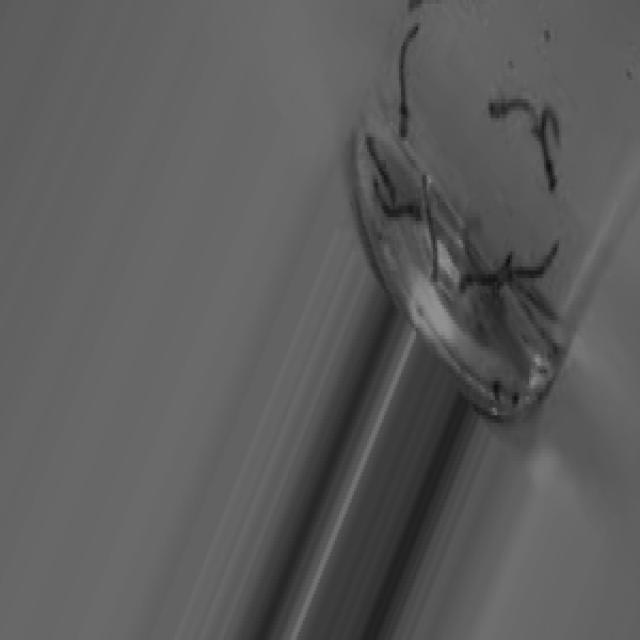larvas: (497, 239, 557, 281), (397, 22, 419, 136), (421, 174, 441, 283), (541, 104, 560, 194), (368, 137, 393, 196), (489, 94, 536, 121), (378, 203, 419, 219), (460, 274, 496, 291)
